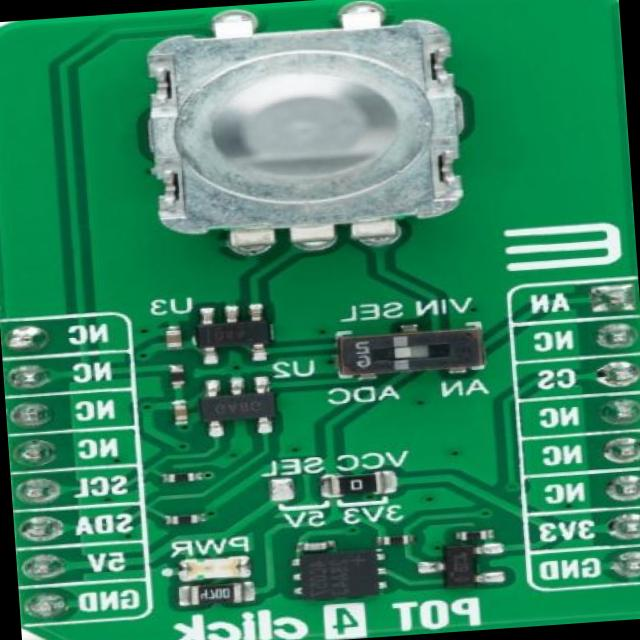IC: (288, 548, 384, 600), (192, 309, 280, 356), (195, 382, 284, 427)
LED: (179, 556, 248, 582)
capacitor: (156, 329, 180, 351), (293, 540, 331, 552), (168, 402, 188, 422)
potentiometer: (144, 14, 468, 251)
resistor: (188, 583, 246, 613), (326, 471, 390, 498), (452, 526, 493, 542), (163, 471, 200, 486), (166, 367, 187, 390), (160, 516, 198, 528), (384, 533, 415, 546)
transistor: (422, 544, 486, 592)
